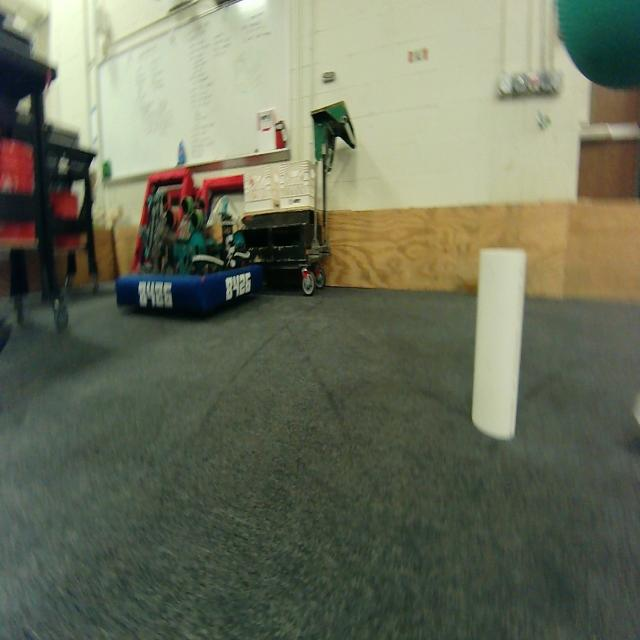coral: (472, 249, 526, 440)
